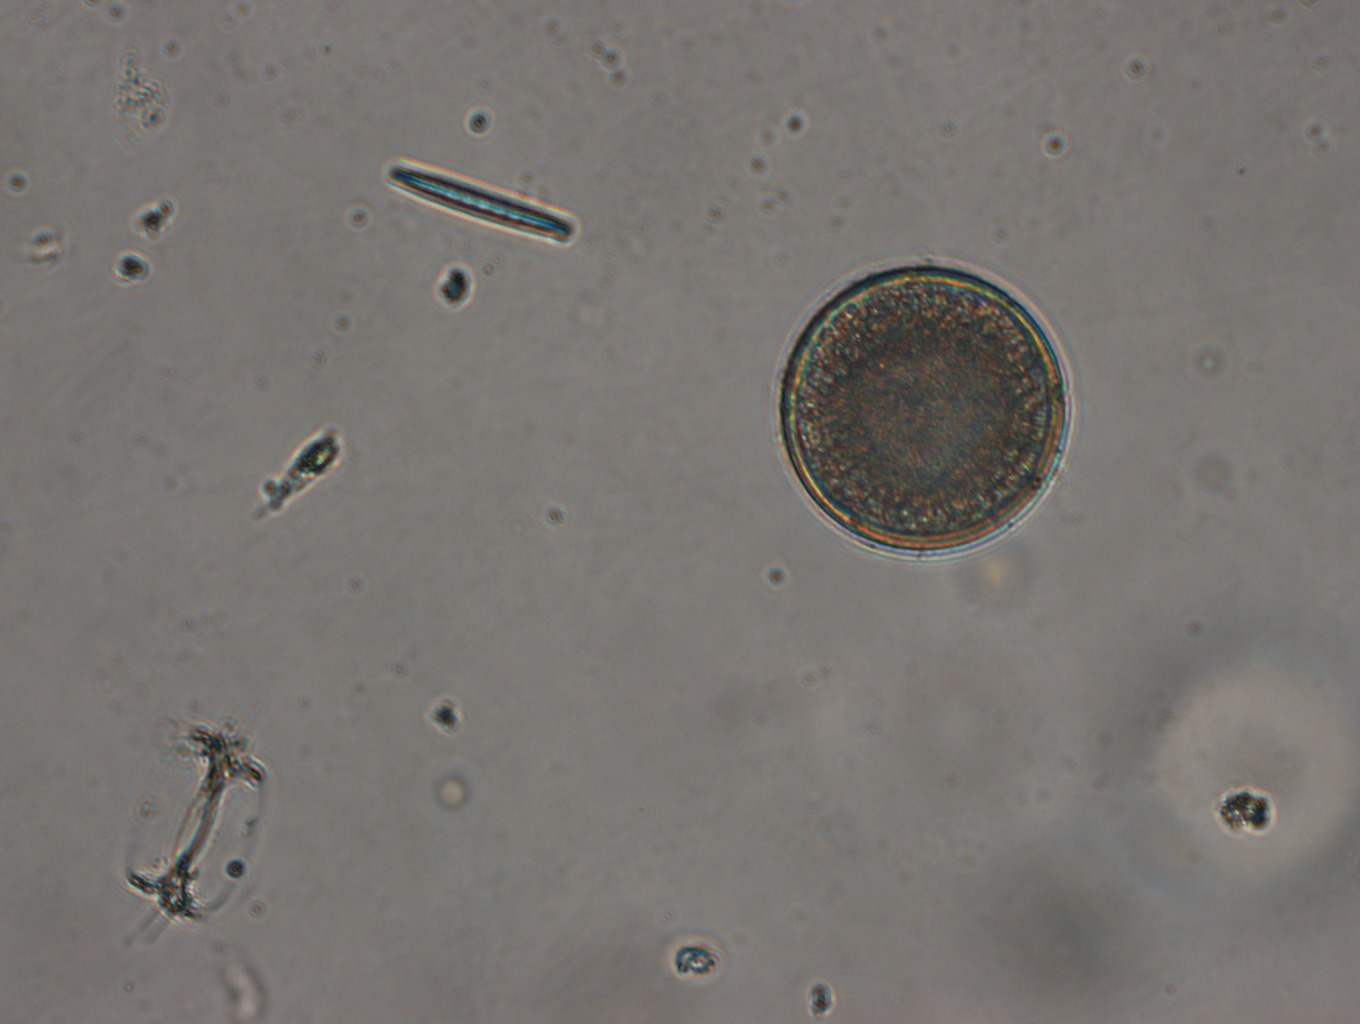chaetoceros: (121, 685, 274, 941)
coscinodiscus: (774, 258, 1080, 556)
thalassionema nitzschioides: (377, 152, 579, 253)
